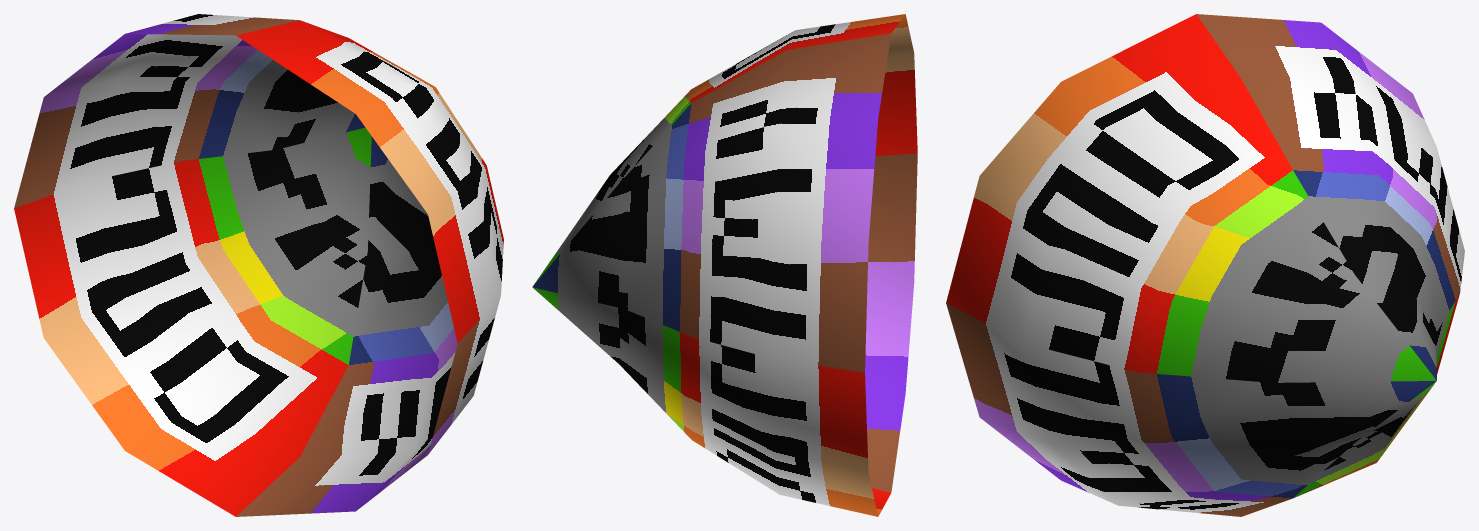
File: myd_cap_cone.dae
The picture shows the model from 3 angles, left to right: view 1: azimuth 30°, elevation 25°; view 2: azimuth 150°, elevation 25°; view 3: azimuth 270°, elevation 25°; orthographic projection. The views are drawn at different scales.
Parts seen in each view (by area): view 1: myd_cap_cone; view 2: myd_cap_cone; view 3: myd_cap_cone.
Boxes of the visible parts, bbox=[...] form: myd_cap_cone: bbox=[14, 14, 503, 516]; myd_cap_cone: bbox=[532, 14, 917, 516]; myd_cap_cone: bbox=[946, 14, 1464, 516].
Bounding box in the file's own units: 16.43 × 21.14 × 20.59.
Materials: 1 (1 with a texture image).
